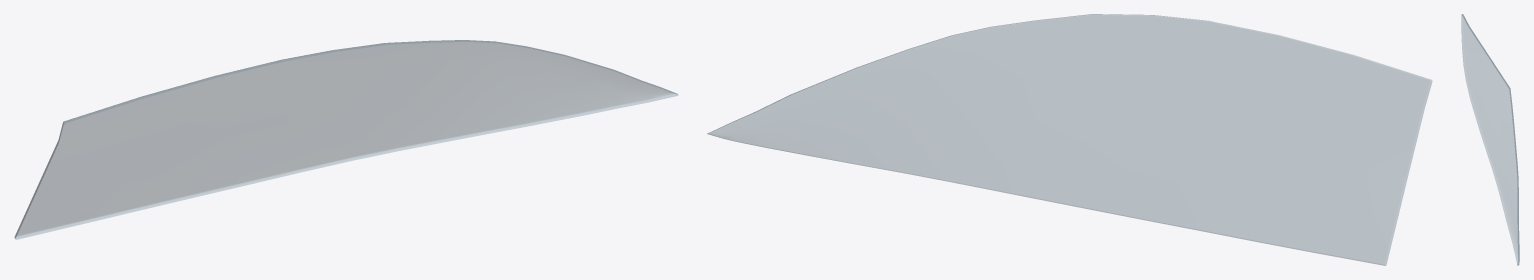
3 views of the same model, side by side, from view 1: azimuth 30°, elevation 25°; view 2: azimuth 150°, elevation 25°; view 3: azimuth 270°, elevation 25° (orthographic). The views are drawn at different scales.
Visible parts, largest first — view 1: SM_MercedesCCC_Door_FL_Glass_Ext1; view 2: SM_MercedesCCC_Door_FL_Glass_Ext1; view 3: SM_MercedesCCC_Door_FL_Glass_Ext1.
Part boxes in pixels (x1=…): SM_MercedesCCC_Door_FL_Glass_Ext1: x1=14, y1=40, x2=677, y2=239; SM_MercedesCCC_Door_FL_Glass_Ext1: x1=707, y1=14, x2=1432, y2=265; SM_MercedesCCC_Door_FL_Glass_Ext1: x1=1461, y1=14, x2=1519, y2=265.
Size of the model in its own units: 1.18 by 0.3109 by 0.1772.
